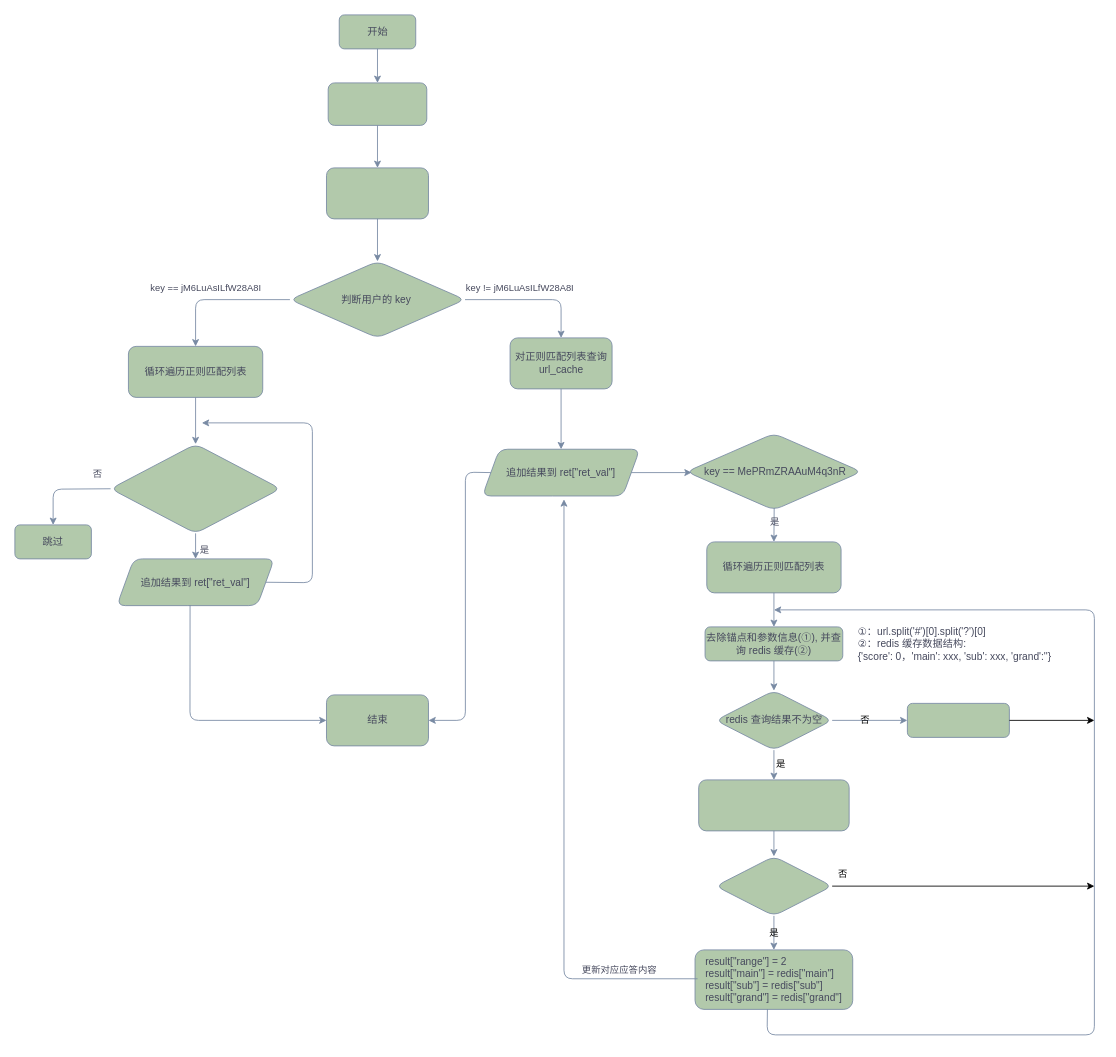
The diagram is 1116 pixels wide and 1057 high, and some of its shapes have lost their labels. The box of each missing label's shape, as (x1, y1, x2, y2) in pixels:
DRS 字段设置为 101: (907, 703, 1009, 737)
redis["score"] == 0: (715, 856, 832, 916)
result["drs"] = redis["socre"]: (698, 779, 849, 831)
url 的 site = "mr.baidu.com " && url 的 domain != "baidu.com ": (110, 443, 281, 533)
参数检查 & 鉴权: (327, 82, 427, 125)
正则匹配: (326, 167, 428, 219)
